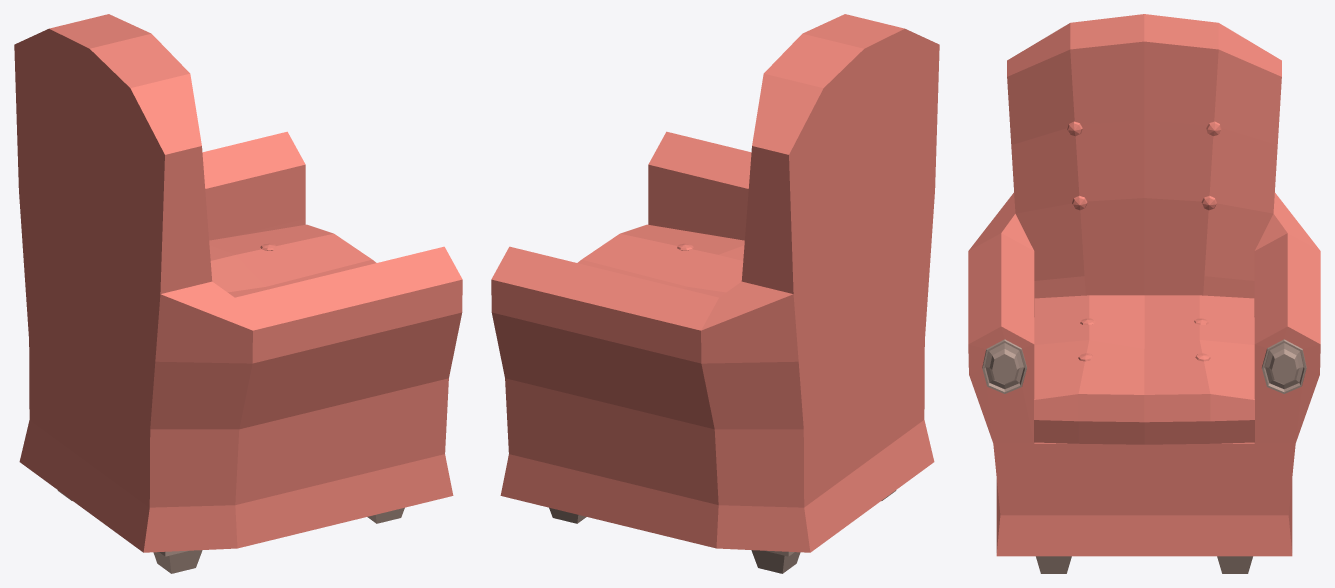
Rendered from Armchair_01.gltf.
3 views of the same model, side by side, from view 1: azimuth 30°, elevation 25°; view 2: azimuth 150°, elevation 25°; view 3: azimuth 270°, elevation 25° (orthographic). The views are drawn at different scales.
Visible parts, largest first — view 1: node-0; view 2: node-0; view 3: node-0.
Part boxes in pixels (x1,y1,x2,y2): node-0: [14, 14, 462, 573]; node-0: [491, 14, 939, 573]; node-0: [968, 14, 1320, 573].
Size of the model in its own units: 6.32 by 9.99 by 7.14.
